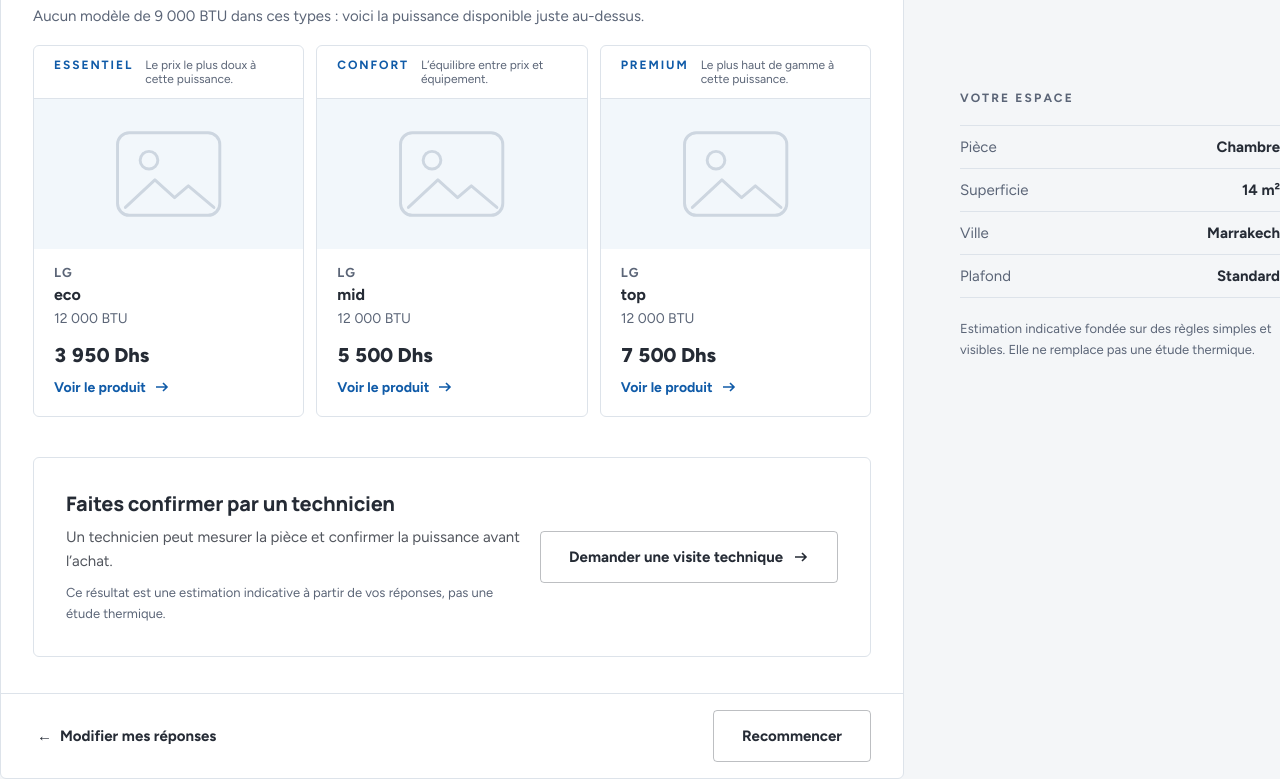
it: ClimateAdvisor › restarts from the first step
The width and height of the screenshot is (1280, 779).
(page scrolled)
Click the button "Recommencer": click(792, 736) [713,710,871,762]
(page scrolled)
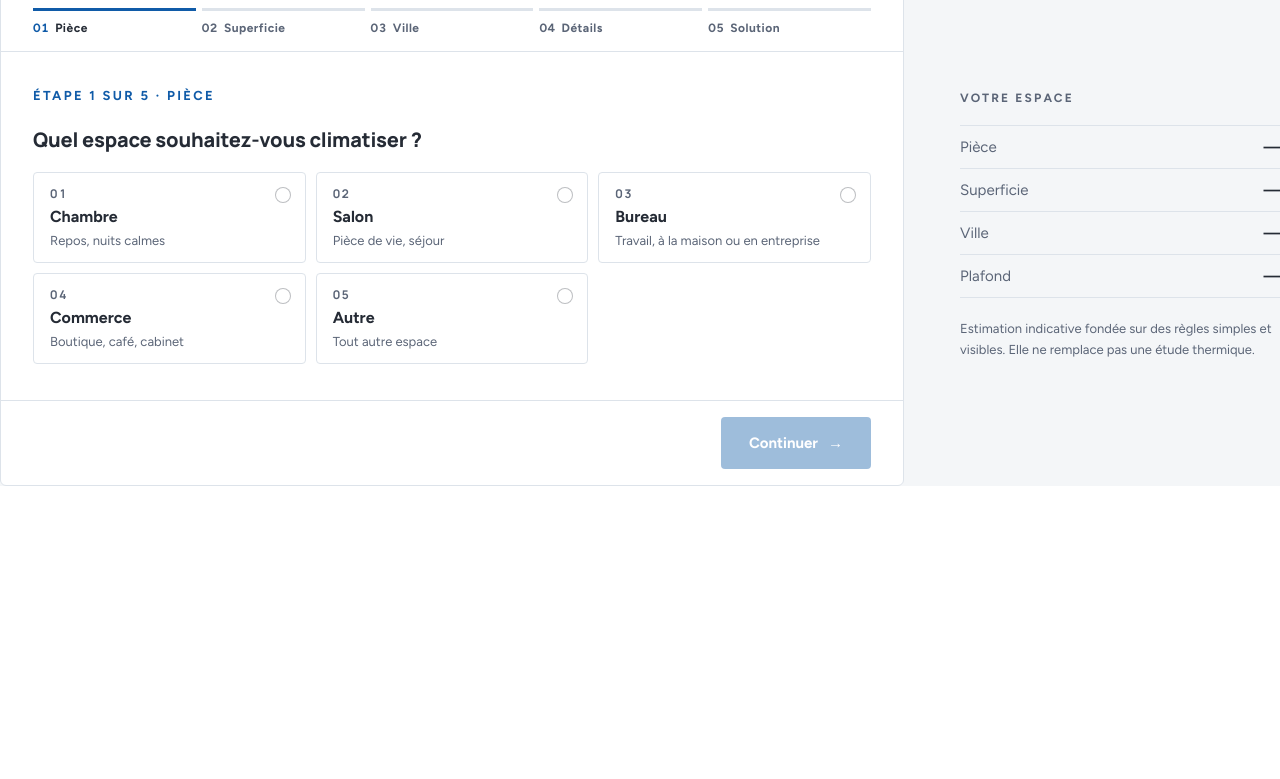
Now the heading "Étape 1 sur 5 · Pièce" is shown, box [33,88,215,103]
Now the radio button labelled "01 Chambre Repos, nuits calmes" is not checked, box [33,172,306,263]
